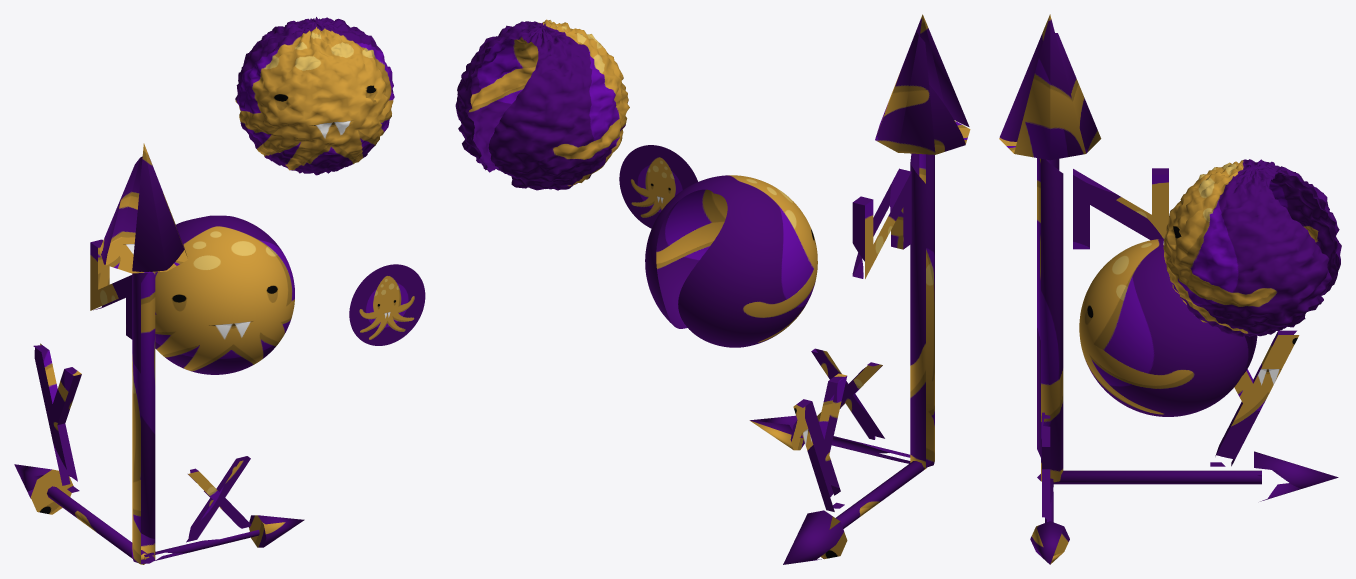
The model's file is arrow.obj.
The picture shows the model from 3 angles, left to right: view 1: azimuth 30°, elevation 25°; view 2: azimuth 150°, elevation 25°; view 3: azimuth 270°, elevation 25°; orthographic projection. The views are drawn at different scales.
Visible parts, largest first — view 1: Cylinder; view 2: Cylinder; view 3: Cylinder.
Part boxes in pixels (x1,y1,x2,y2): Cylinder: (14,17,425,564); Cylinder: (455,14,970,564); Cylinder: (999,14,1341,564).
Bounding box in the file's own units: 0.904 × 1.02 × 0.6502.
